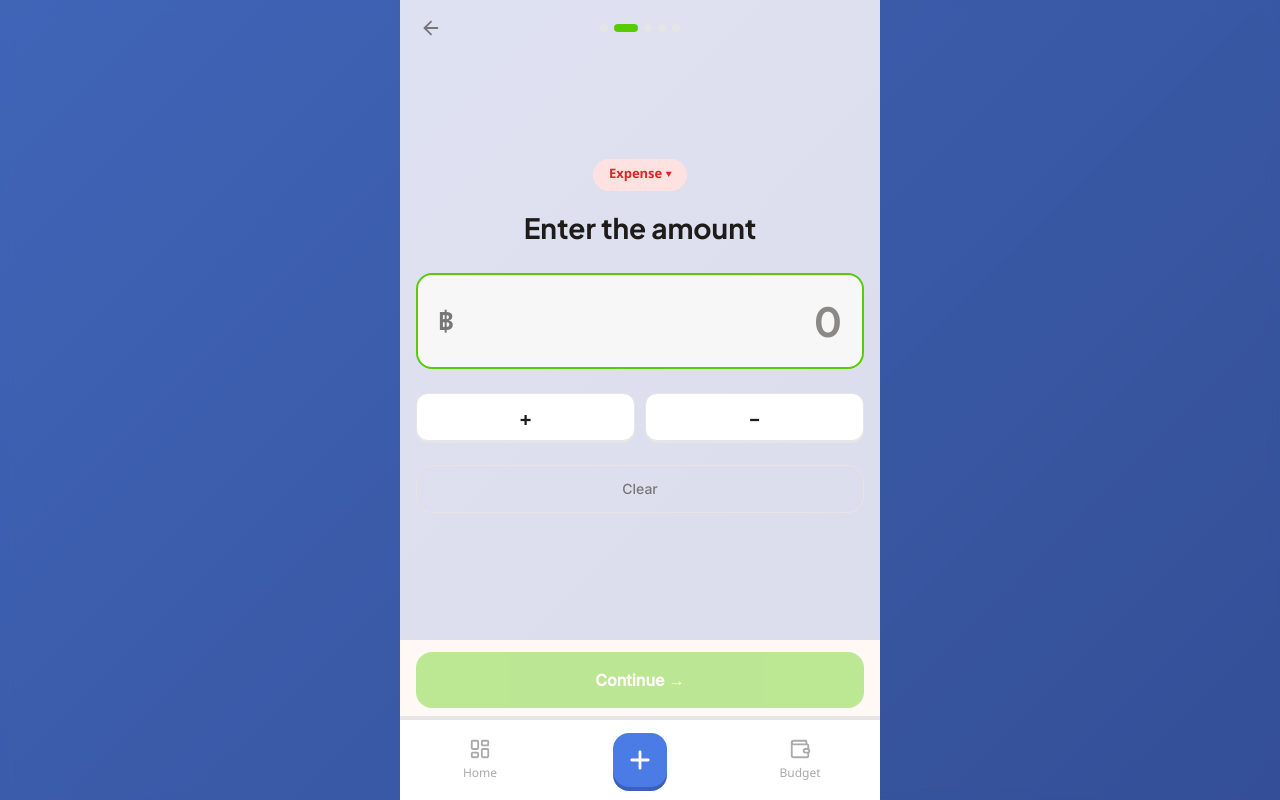
Test case: form new entry › reaches a working confirm step + Save button without ever touching the date field
The width and height of the screenshot is (1280, 800).
Type "120" into the field with placeholder "0" at (654, 321), box [466,291,842,351]
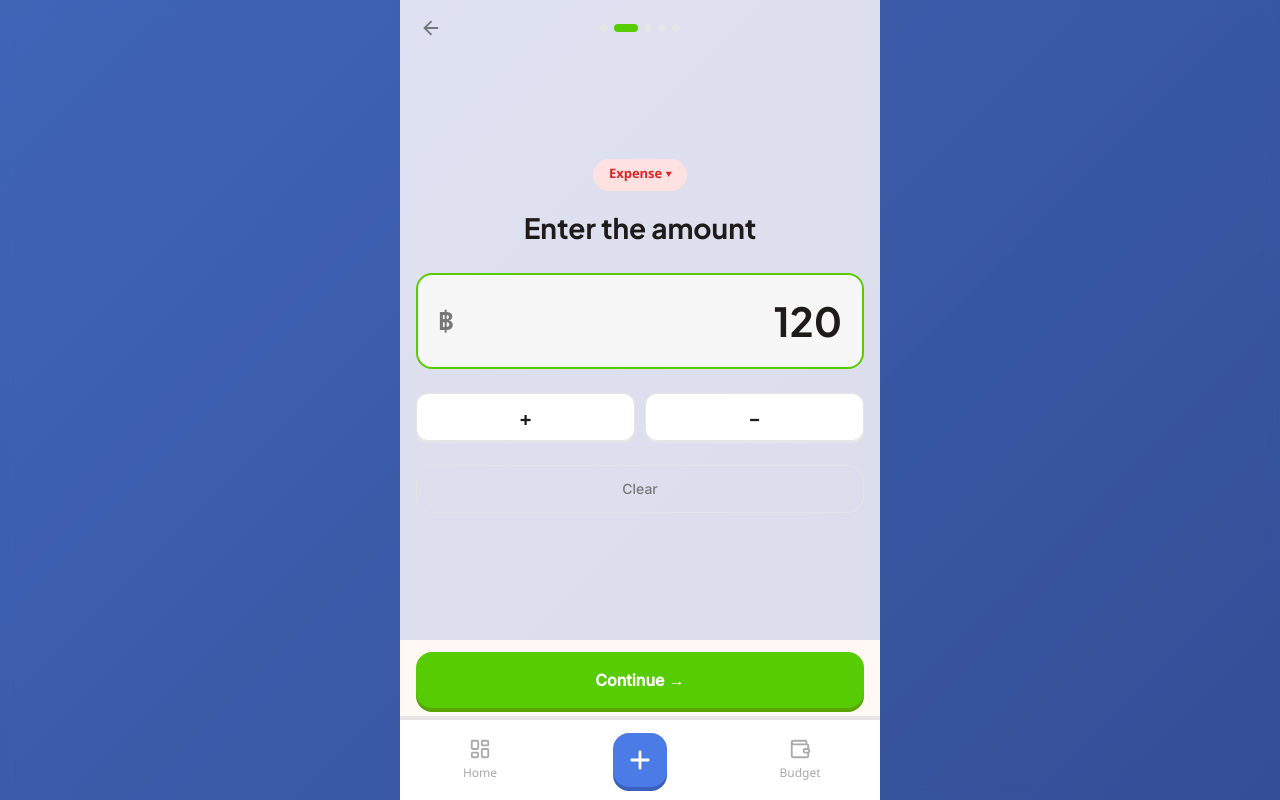
Click the button "Continue →" at (640, 680), box [416,652,864,708]
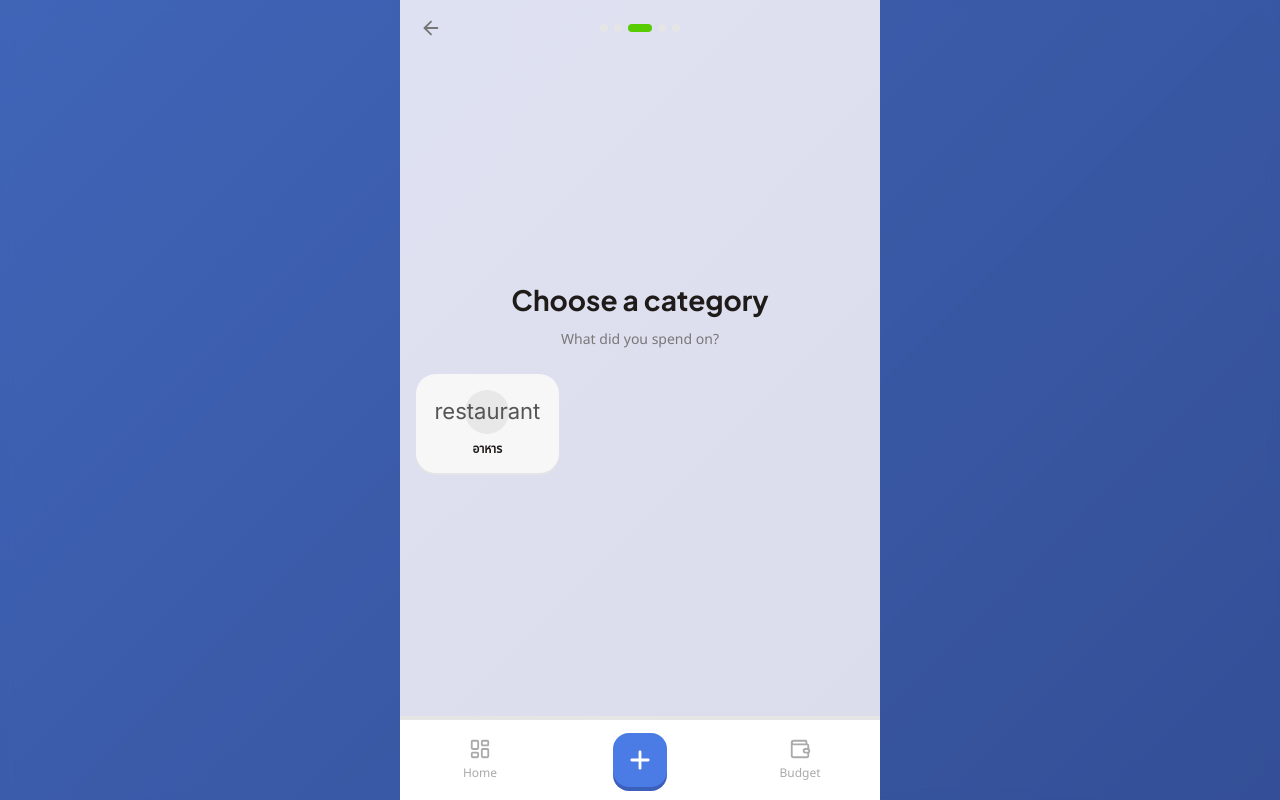
Click the text "อาหาร" at (487, 450), box [472,442,502,457]
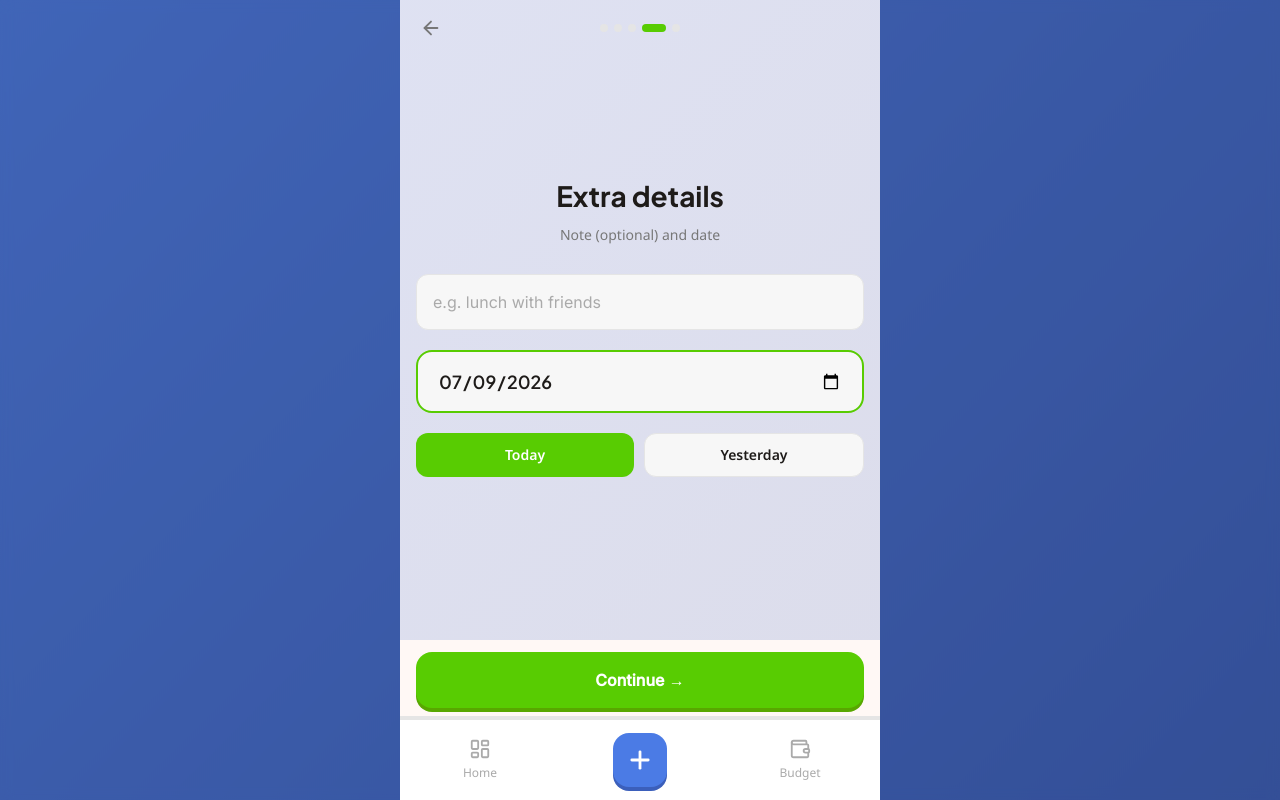
expect the heading "Extra details" is shown: met, box [556,178,724,213]
Click the button "Continue →" at (640, 680), box [416,652,864,708]
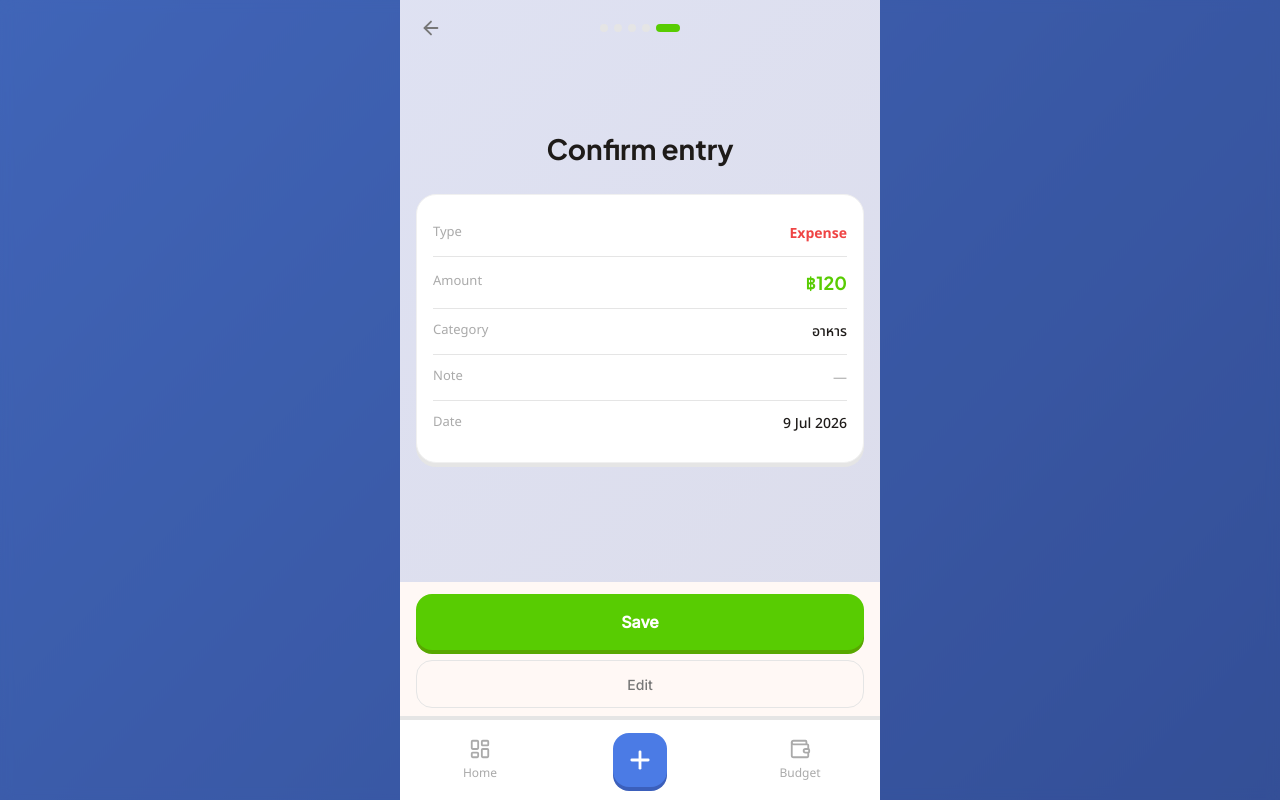
expect the heading "Confirm entry" is shown: met, box [546,130,734,166]
expect the button "Save" is shown: met, box [416,594,864,650]
